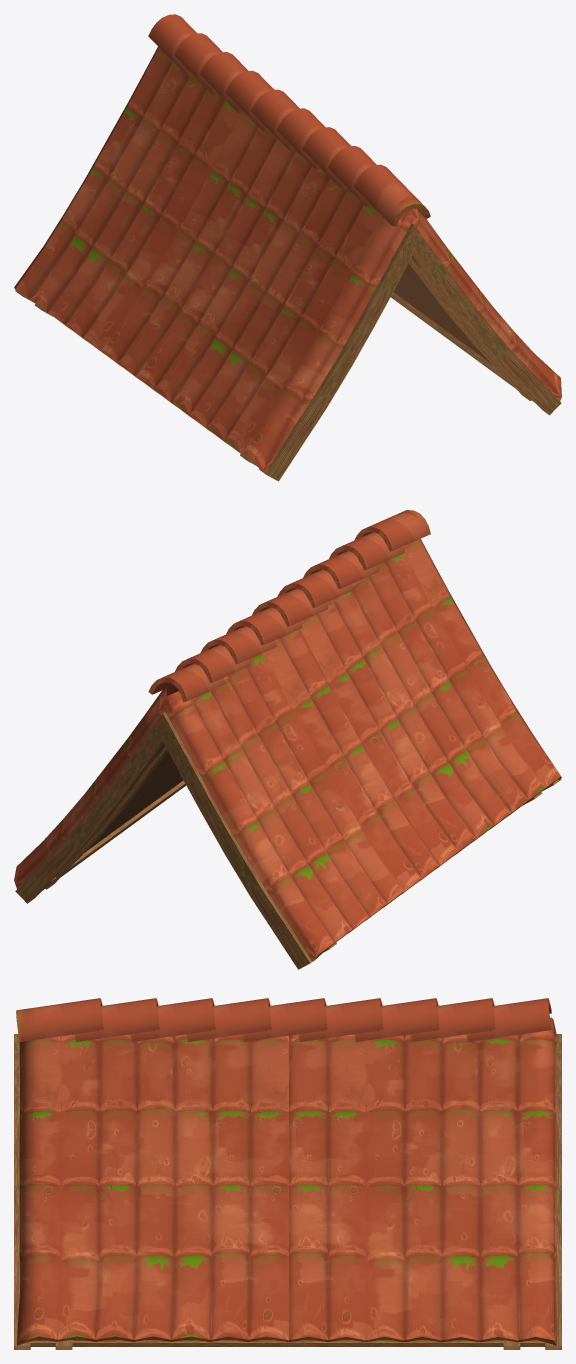
Rendered from roof_tiles_4x6.glb.
3 views of the same model, one above another, from view 1: azimuth 30°, elevation 25°; view 2: azimuth 150°, elevation 25°; view 3: azimuth 270°, elevation 25° (orthographic). The views are drawn at different scales.
Visible parts, largest first — view 1: Roof_RoundTiles_4x6; view 2: Roof_RoundTiles_4x6; view 3: Roof_RoundTiles_4x6.
Part boxes in pixels (left/top/right/bottom): Roof_RoundTiles_4x6: left=14, top=14, right=561, bottom=481; Roof_RoundTiles_4x6: left=14, top=510, right=561, bottom=969; Roof_RoundTiles_4x6: left=14, top=998, right=561, bottom=1349.
Bounding box in the file's own units: 5.51 × 4.23 × 7.57.
Materials: 2 (2 with a texture image).
